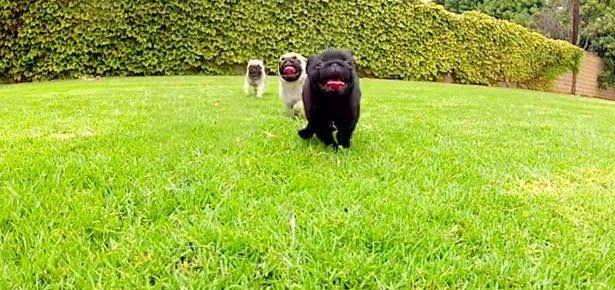adult_dog: (295, 48, 363, 153), (275, 53, 310, 120), (242, 59, 268, 97)
